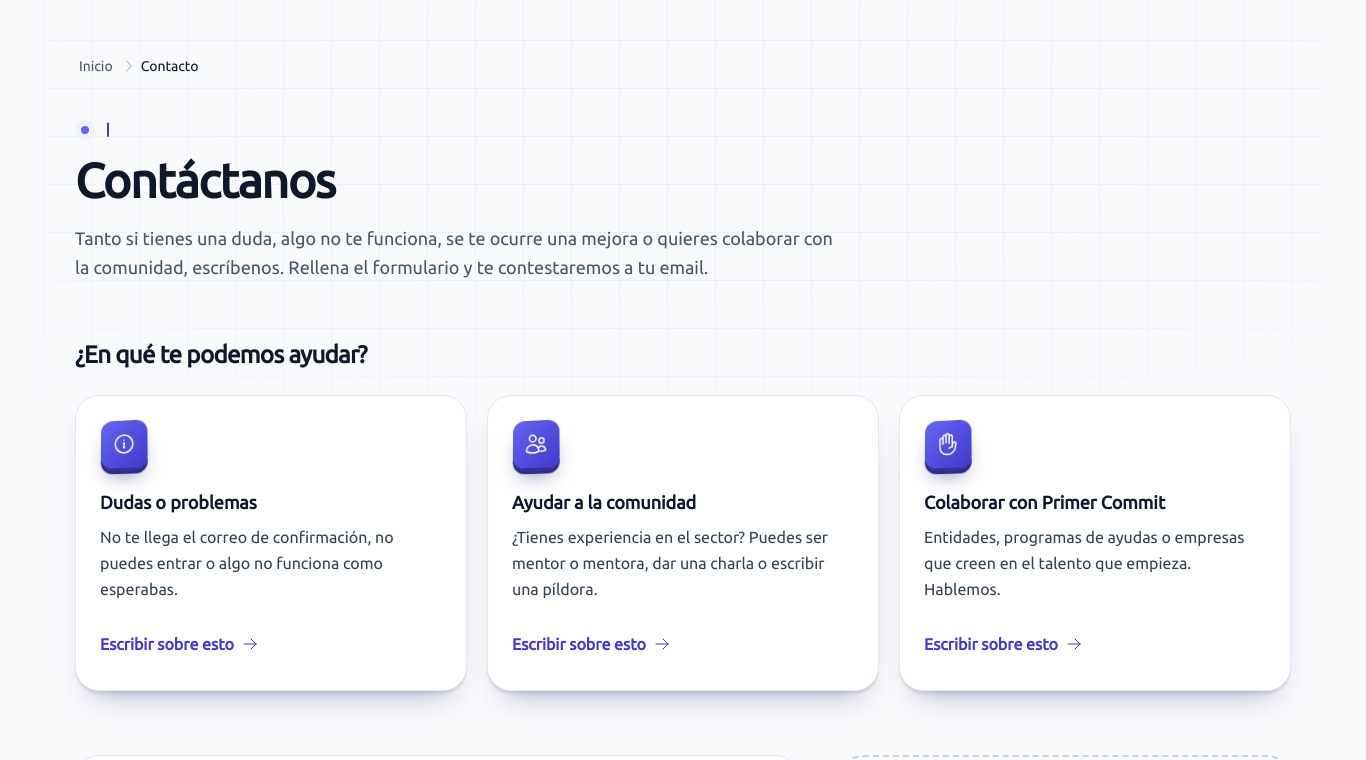
Test: ContactPage › elegir una tarjeta pone el motivo y el mensaje se envía sin el campo trampa relleno
Expected: the heading "Contáctanos" is shown, [75,153,335,207]
Expected: the headings read "Dudas o problemas", "Ayudar a la comunidad", "Colaborar con Primer Commit", in this order, [100,492,257,512]; [512,492,696,512]; [924,492,1165,512]
Click the button named "Colaborar con Primer Commit": {"x": 1003, "y": 644} [924,622,1082,666]
(page scrolled)
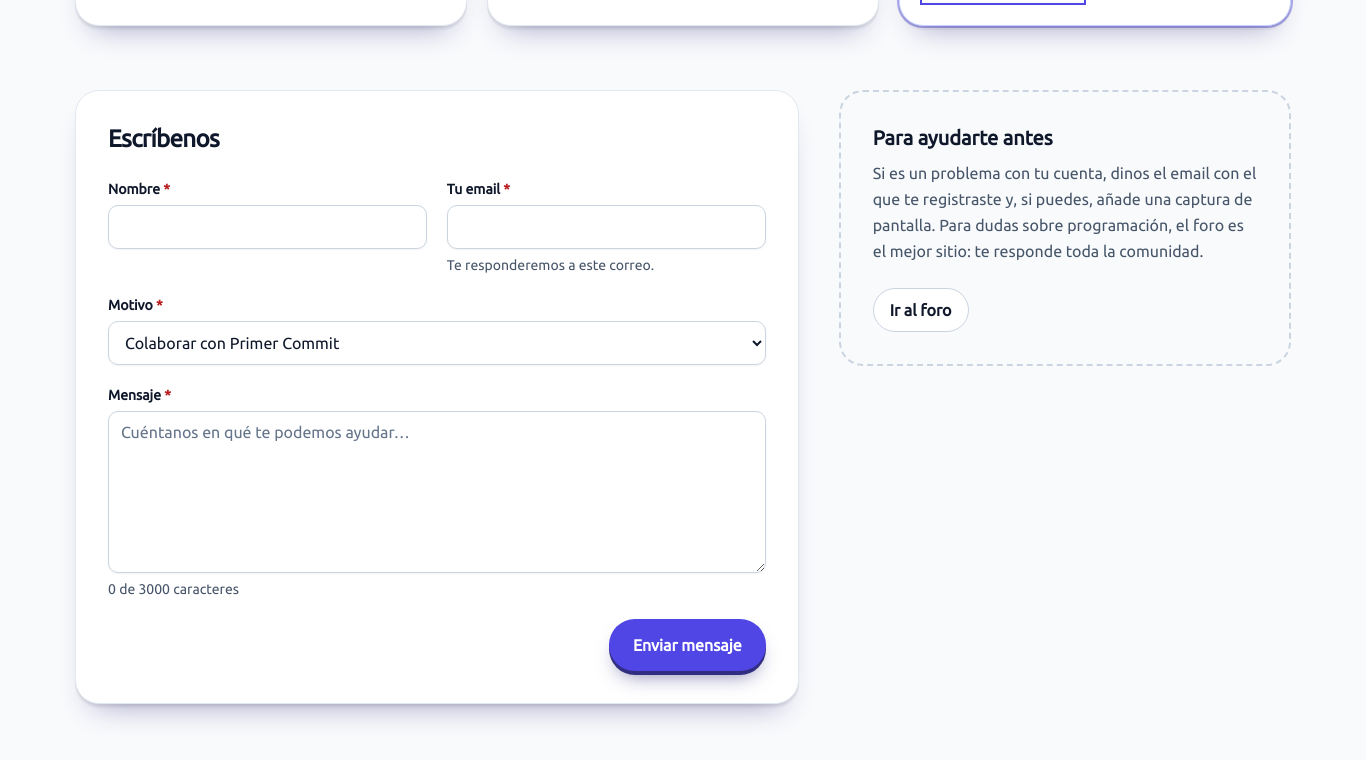
Now the dropdown labelled "Motivo *" shows "Colaborar con Primer Commit", box [108,320,766,364]
In the field labelled "Nombre": {"x": 267, "y": 226} [108,204,427,248], type "Lola"
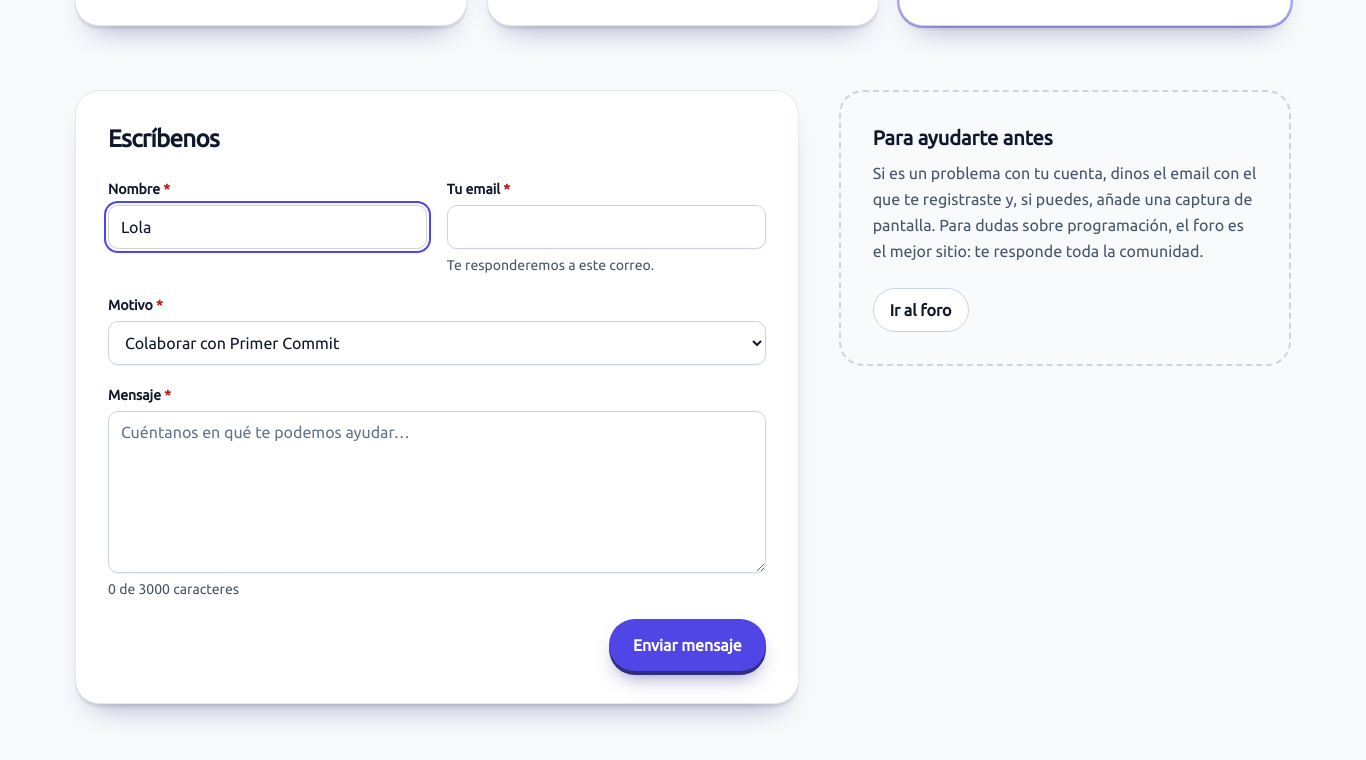
In the field labelled "Tu email *": {"x": 606, "y": 226} [447,204,766,248], type "lola@test.com"
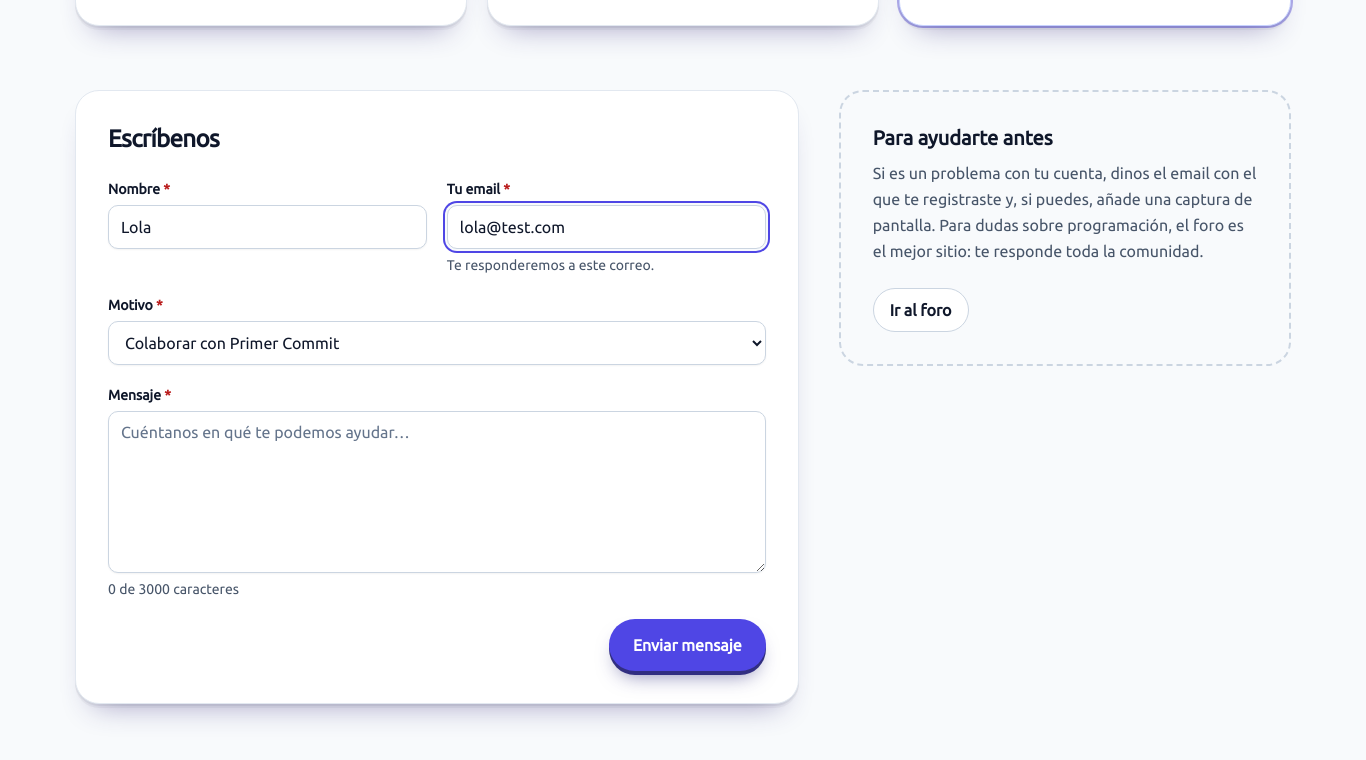
In the text box labelled "Mensaje *": {"x": 437, "y": 492} [108,410,766,572], type "Queremos colaborar con la comunidad."
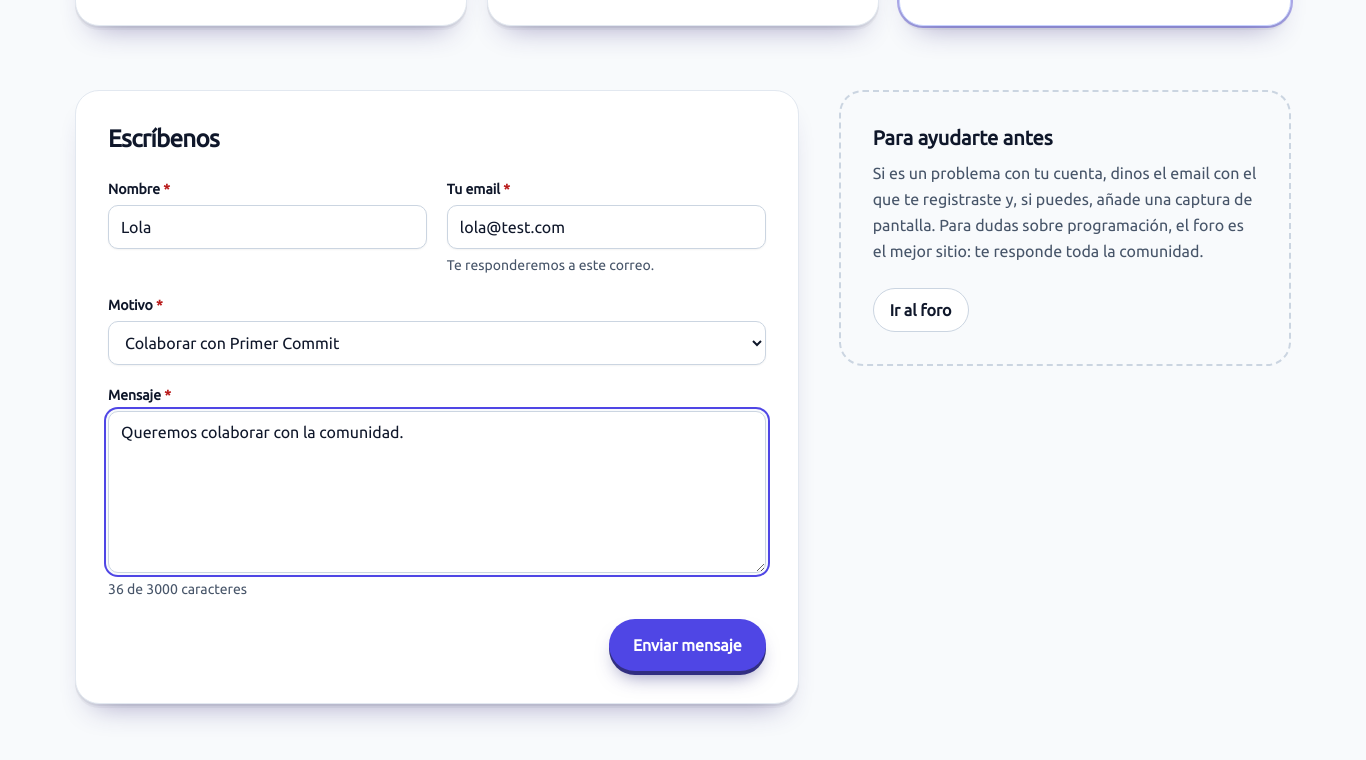
Click the button "Enviar mensaje": {"x": 687, "y": 644} [609,618,766,670]
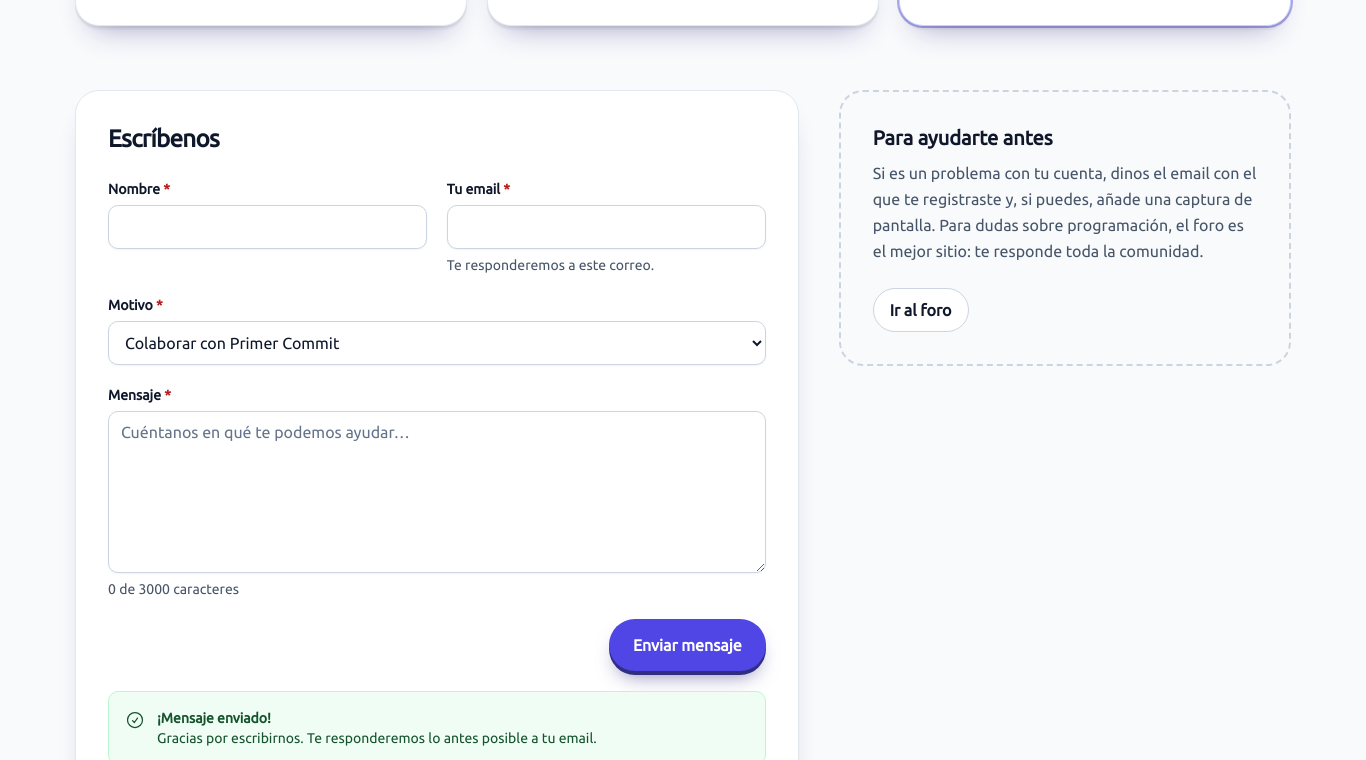
Now the text "¡Mensaje enviado!" is shown, box [157,710,271,726]
